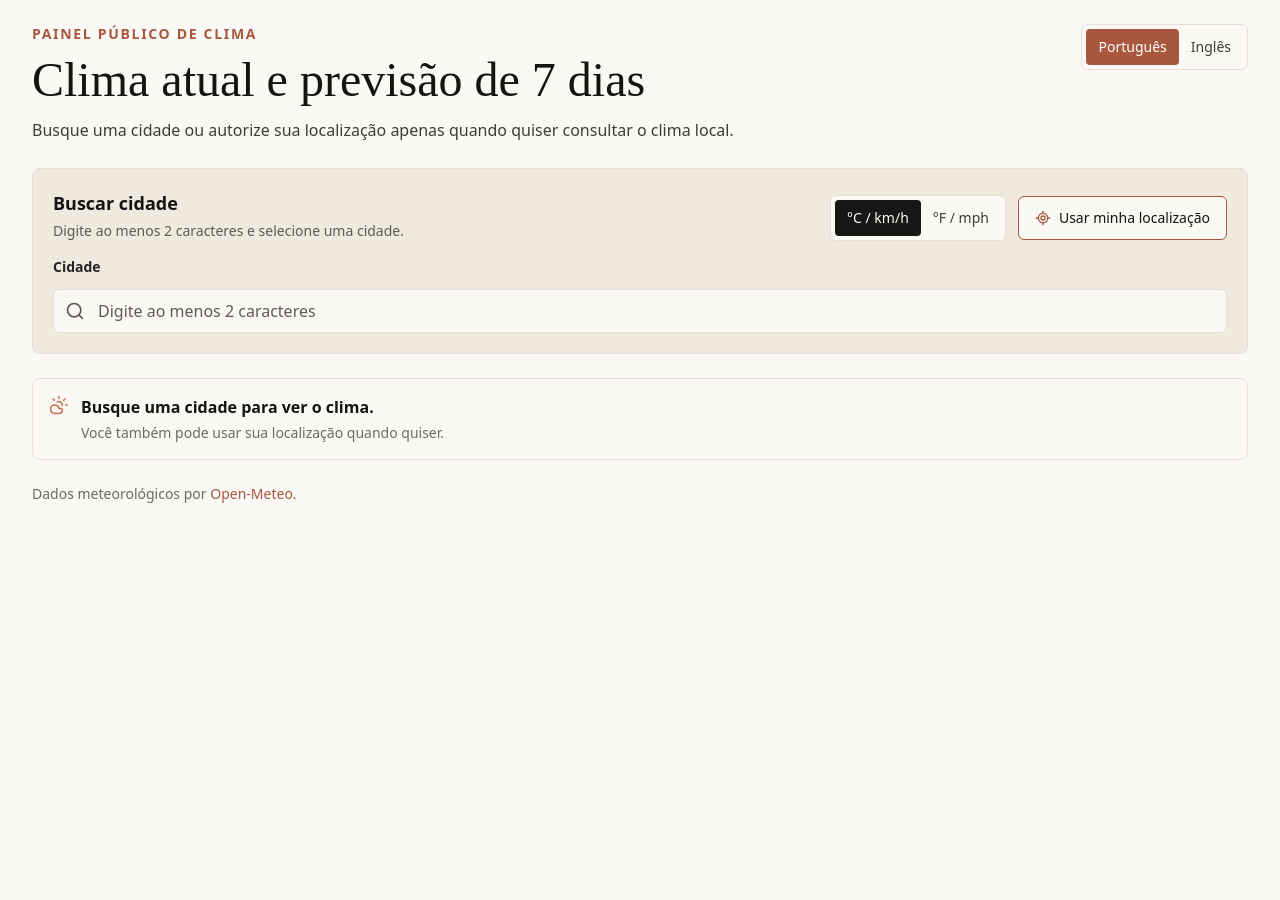
it: WeatherPage › should keep text search available when geolocation is denied
Click the button "Usar minha localização". click: coordinates (1122, 218)
box: [1018,196,1227,240]
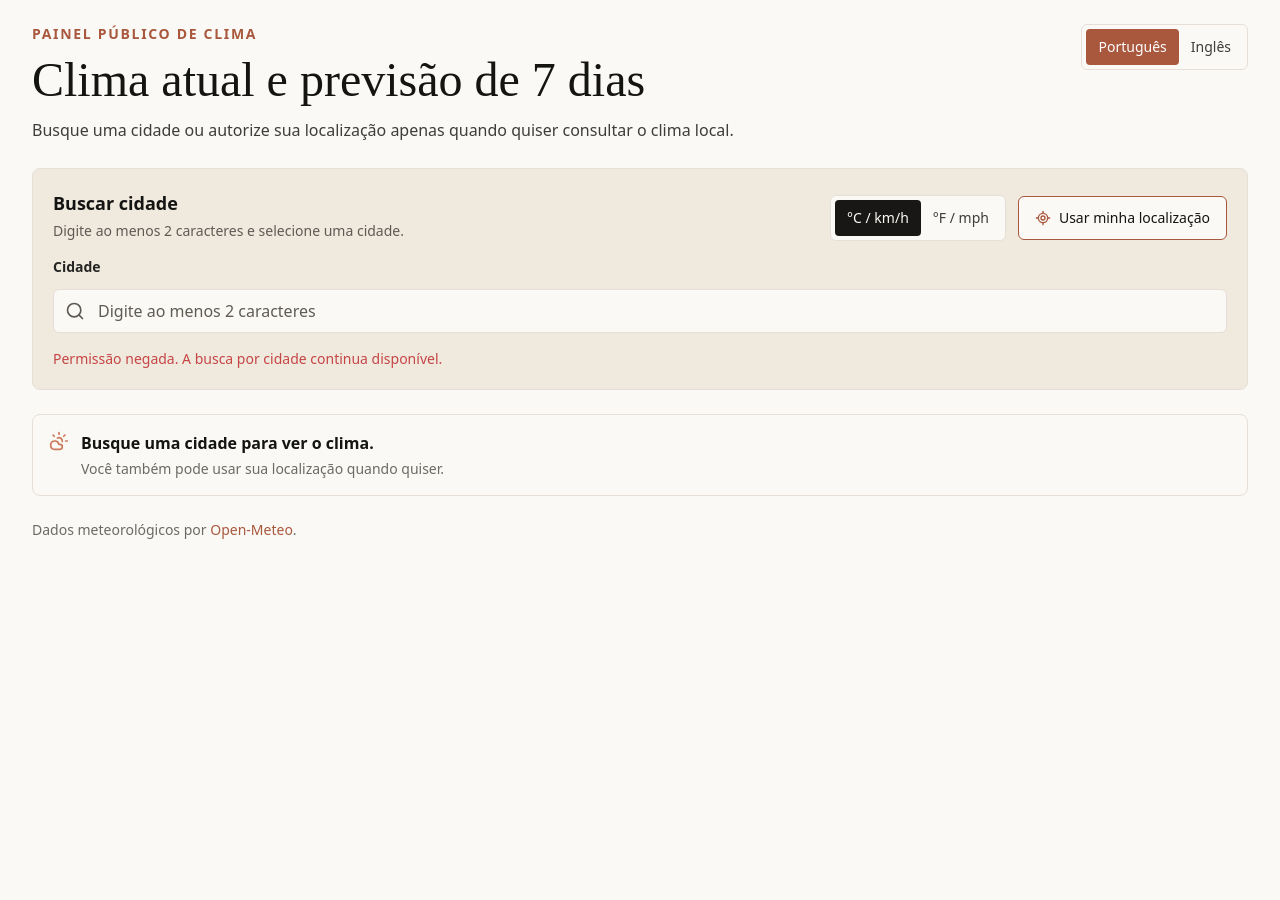
Check: the text "Permissão negada. A busca por cidade continua disponível." is shown, box [53,349,442,368]
Type "Curitiba" into the dropdown named "Buscar cidade". click: coordinates (640, 311)
box: [53,289,1227,333]
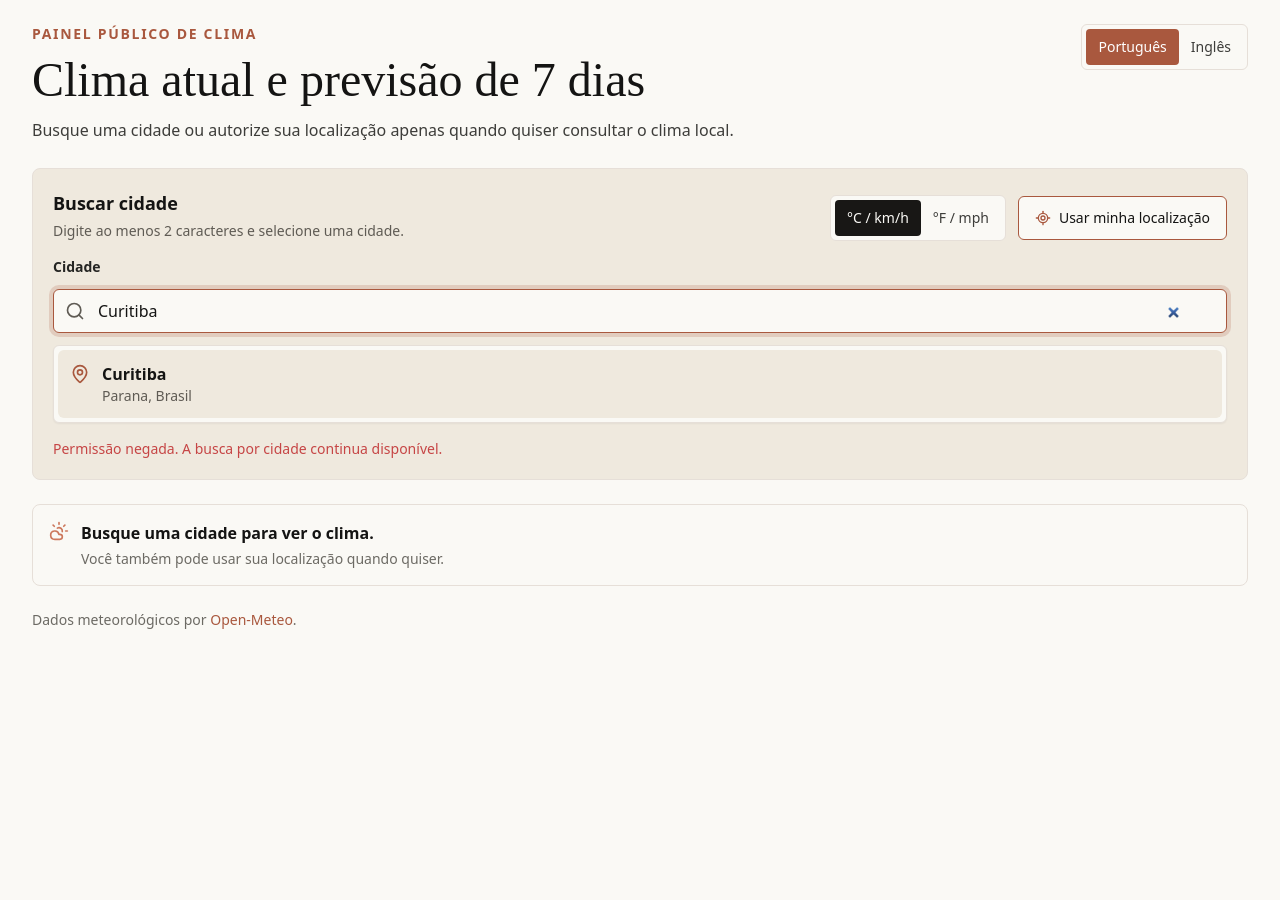
Click the option with aria-label "Selecionar Curitiba, Parana, Brasil". click: coordinates (134, 374)
box: [58,350,1222,418]
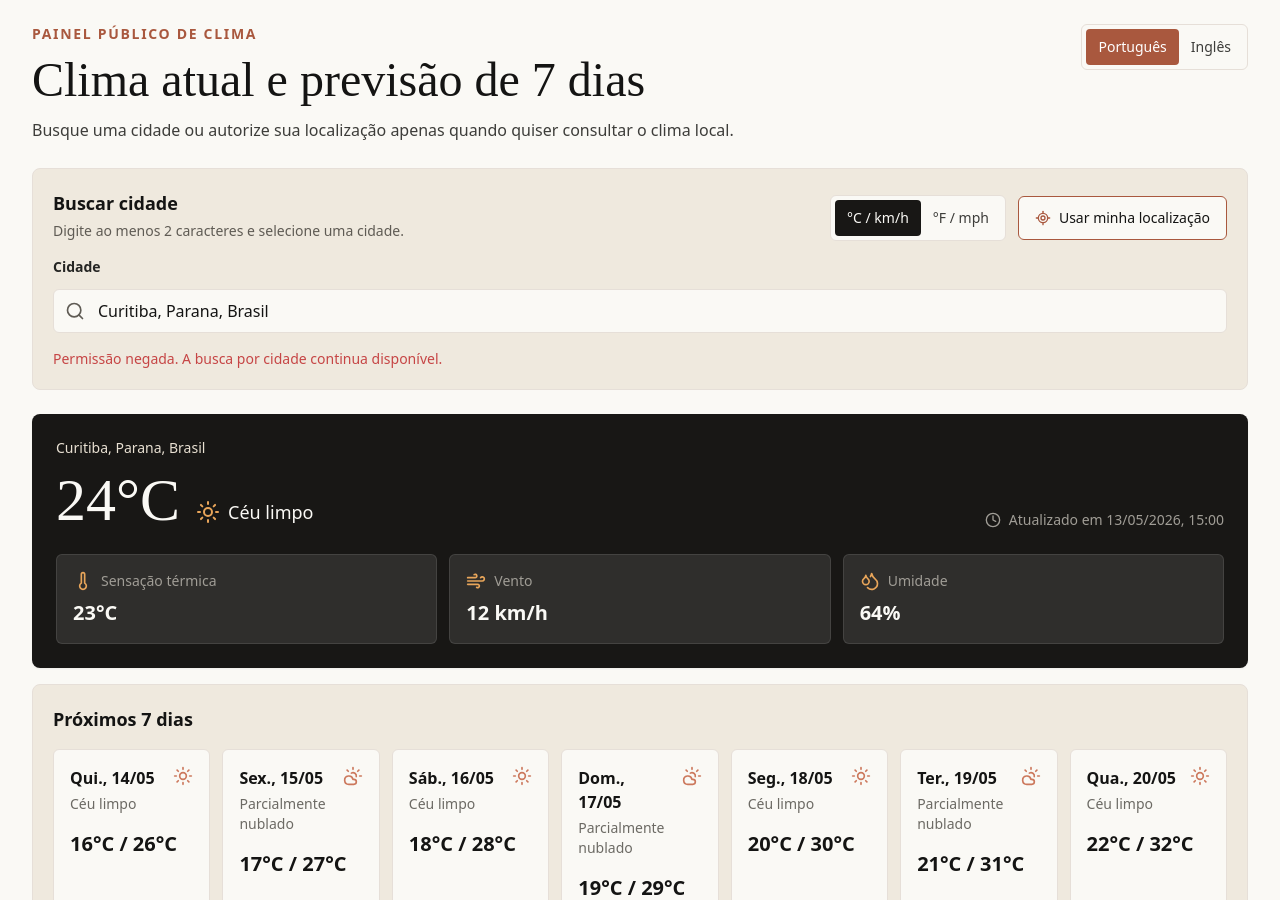
Check: the heading "24°C" is shown, box [56,470,180,530]
